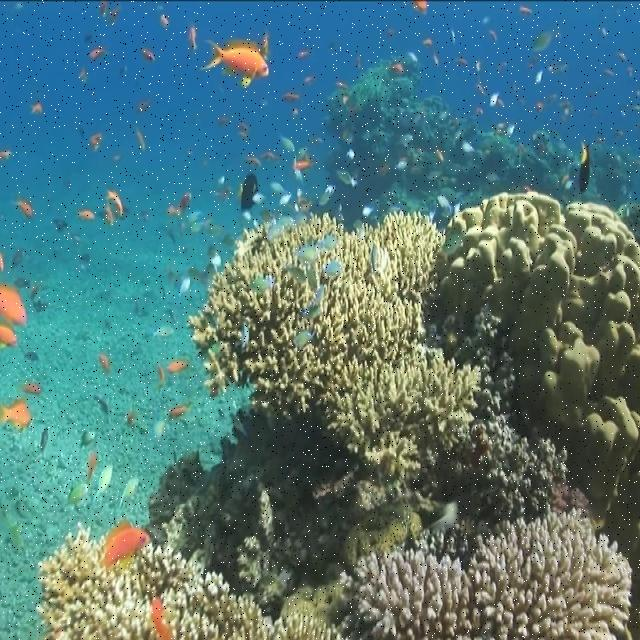fish: (199, 37, 269, 87)
reefs: (33, 192, 639, 638)
